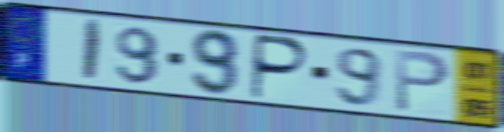9: (188, 27, 241, 99), (333, 45, 385, 108), (113, 24, 162, 87)
I: (80, 17, 105, 84)
P: (248, 32, 311, 103), (393, 47, 453, 115)
